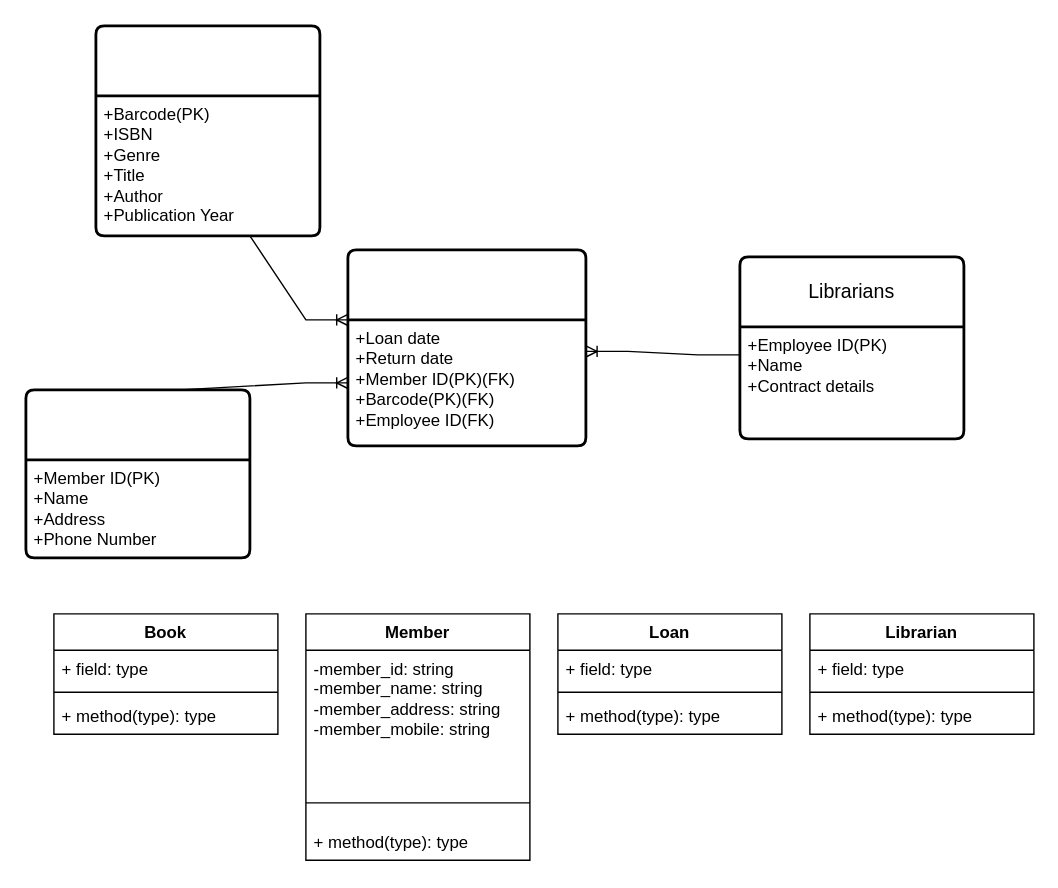
Image size: 1058x888. Some labels were removed from this diagram. Each missing label, with the box of its shape:
Books: (94, 24, 321, 237)
Loans: (346, 248, 587, 447)
Members: (24, 388, 251, 559)
